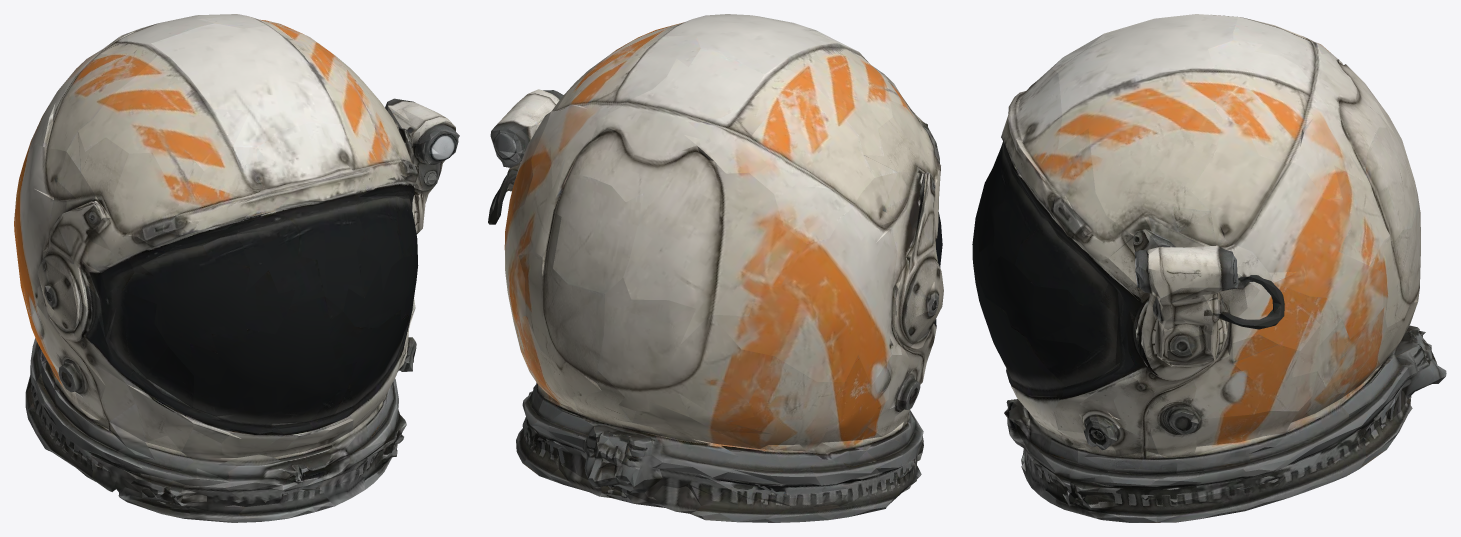
Rendered from helmet.glb.
The picture shows the model from 3 angles, left to right: view 1: azimuth 30°, elevation 25°; view 2: azimuth 150°, elevation 25°; view 3: azimuth 270°, elevation 25°; orthographic projection. The views are drawn at different scales.
Visible parts, largest first — view 1: output_unwrapped; view 2: output_unwrapped; view 3: output_unwrapped.
Boxes of the visible parts, box(x1,y1,x2,y2) form: output_unwrapped: box(14, 14, 459, 522); output_unwrapped: box(488, 14, 943, 522); output_unwrapped: box(972, 14, 1446, 522).
Size of the model in its own units: 0.3165 by 0.32 by 0.3185.
Materials: 1 (1 with a texture image).
